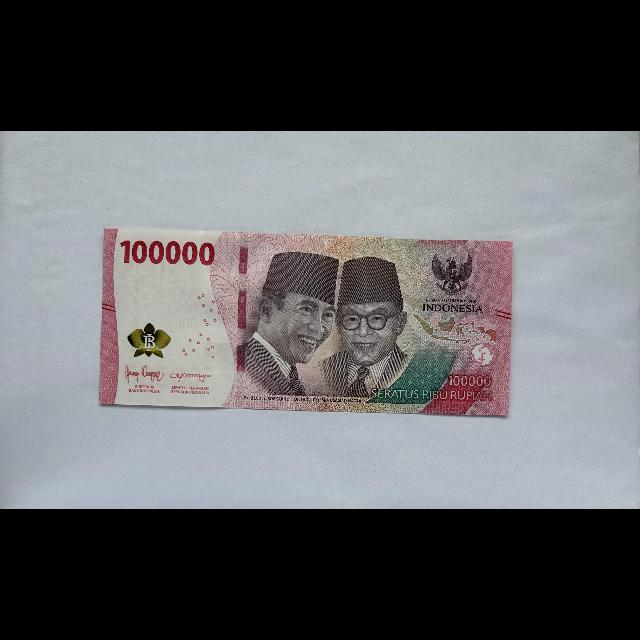Asli-100k: (98, 226, 515, 419)
Tinta-Asli-100k: (127, 322, 172, 358)
